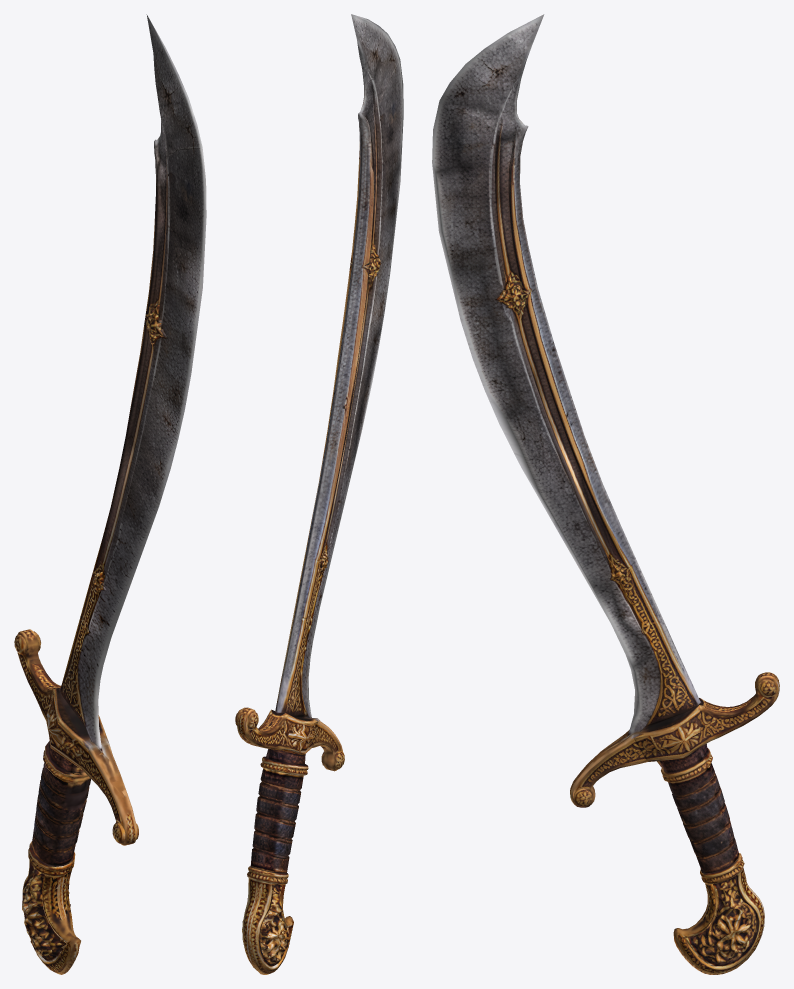
File: Salaadin_Falchion.fbx
3 views of the same model, side by side, from view 1: azimuth 30°, elevation 25°; view 2: azimuth 150°, elevation 25°; view 3: azimuth 270°, elevation 25° (orthographic). The views are drawn at different scales.
Parts seen in each view (by area): view 1: Salaadin_Falchion; view 2: Salaadin_Falchion; view 3: Salaadin_Falchion.
Boxes of the visible parts, left/top/right/bottom form: Salaadin_Falchion: left=14, top=14, right=206, bottom=974; Salaadin_Falchion: left=235, top=14, right=403, bottom=974; Salaadin_Falchion: left=432, top=14, right=779, bottom=974.
Size of the model in its own units: 2.42 by 50 by 16.4.
